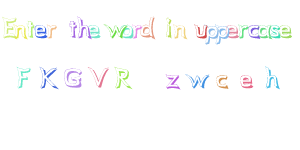E: (1, 13, 16, 41)
F: (15, 65, 32, 89)
G: (63, 66, 84, 89)
K: (37, 65, 60, 90)
R: (113, 65, 133, 90), (163, 71, 183, 91)
a: (257, 22, 272, 43)
c: (215, 73, 230, 90), (247, 22, 260, 40)
d: (139, 17, 157, 40)
e: (278, 21, 293, 42), (239, 72, 254, 90), (87, 22, 101, 40), (33, 22, 47, 39), (226, 22, 239, 40)
h: (265, 64, 281, 90), (77, 14, 92, 41)
i: (162, 17, 174, 41)
n: (172, 22, 188, 40), (14, 23, 28, 40)
o: (118, 22, 134, 40)
p: (204, 22, 219, 47), (215, 23, 229, 47)
r: (130, 21, 144, 40), (236, 21, 249, 41), (46, 22, 57, 39)
s: (269, 21, 281, 43)
t: (26, 19, 36, 40), (67, 19, 77, 40)
u: (193, 22, 209, 39)
v: (87, 65, 110, 89)
w: (185, 71, 210, 90), (104, 23, 125, 39)
